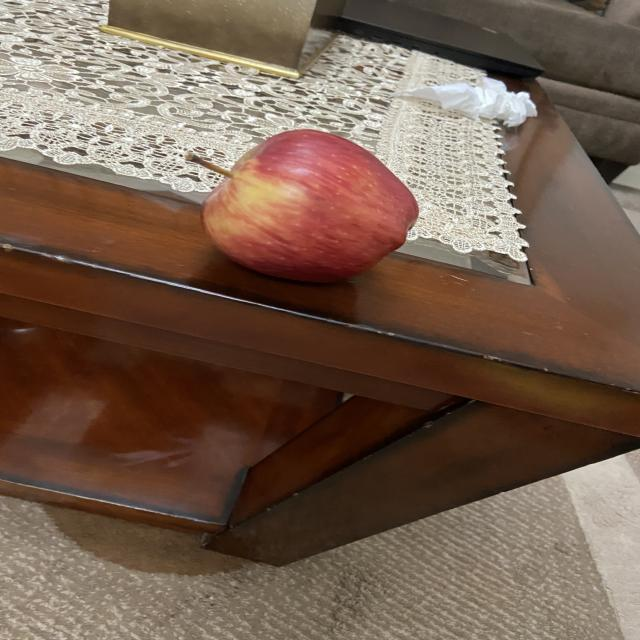apple: (178, 126, 424, 288)
